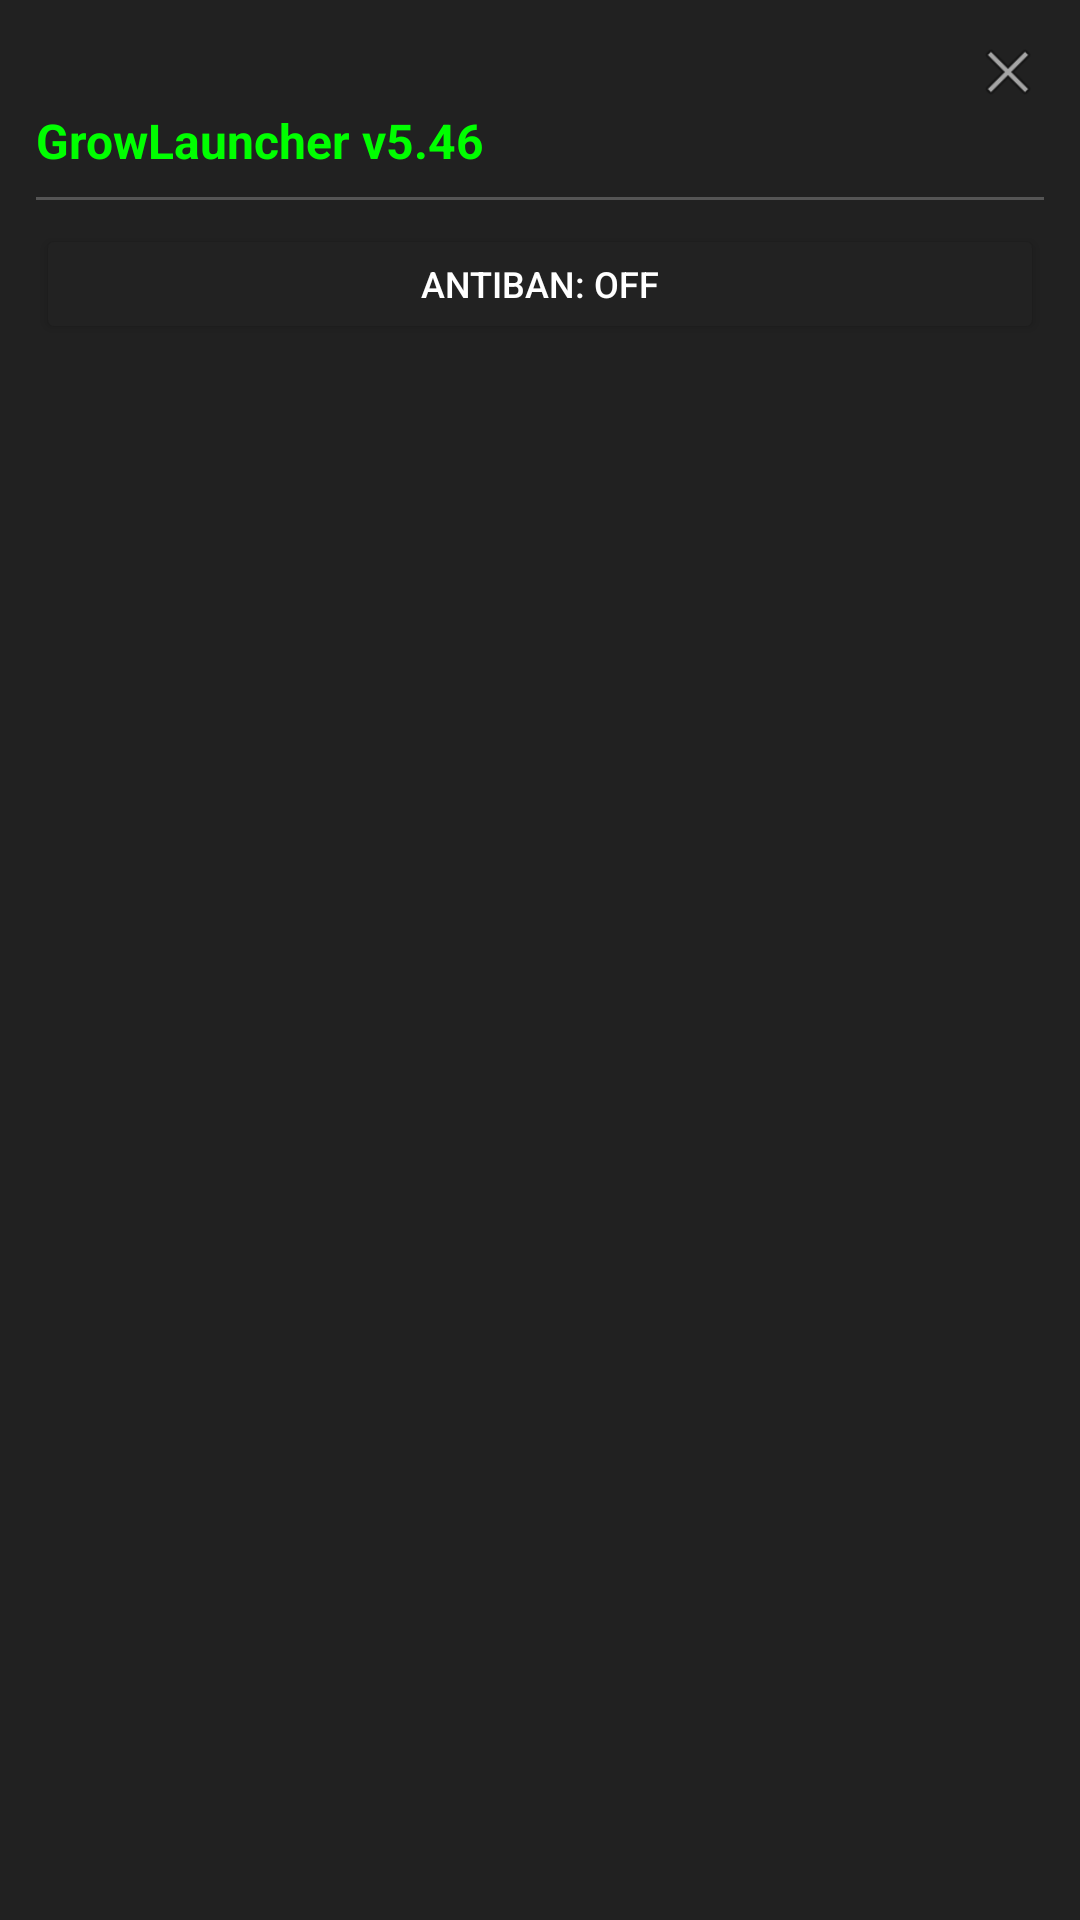

Named icons in this screenshot (1080 x 1920) and their centers, (x=x, y=y):
Close: (x=1008, y=72)
